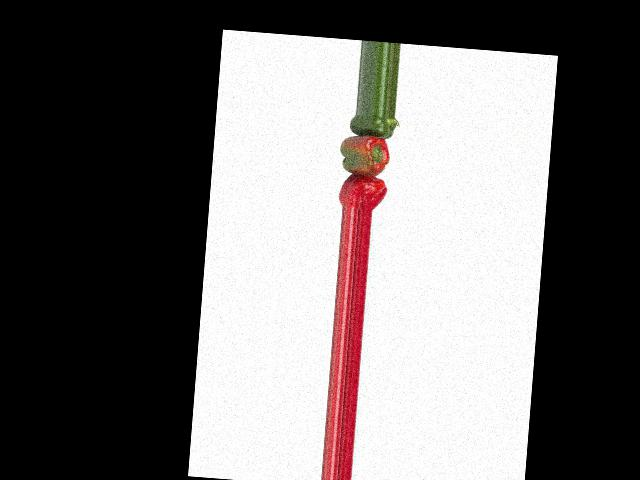bell_pepper: (335, 171, 392, 211)
